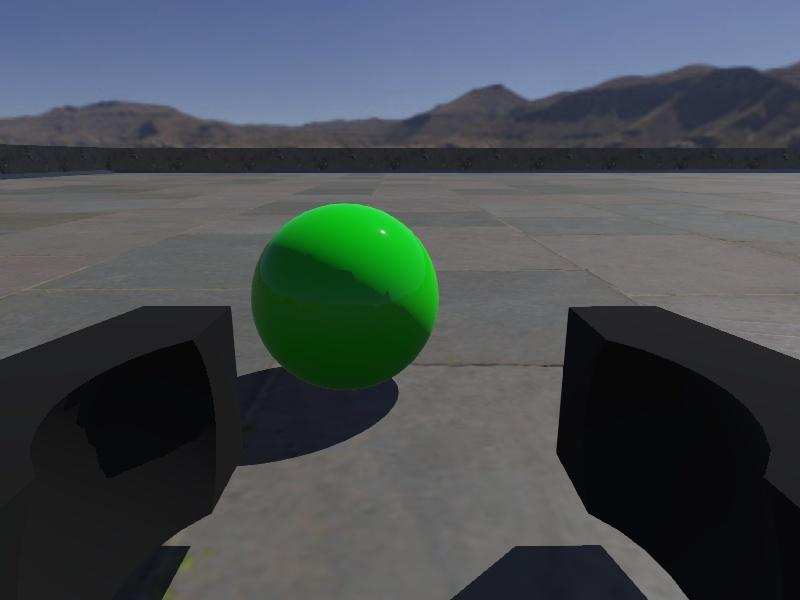green ball: (250, 202, 440, 392)
